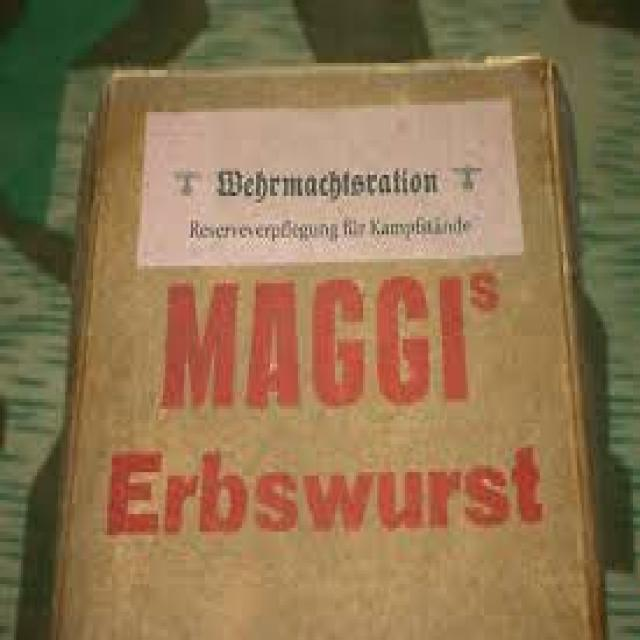cardboard: (49, 49, 603, 636)
